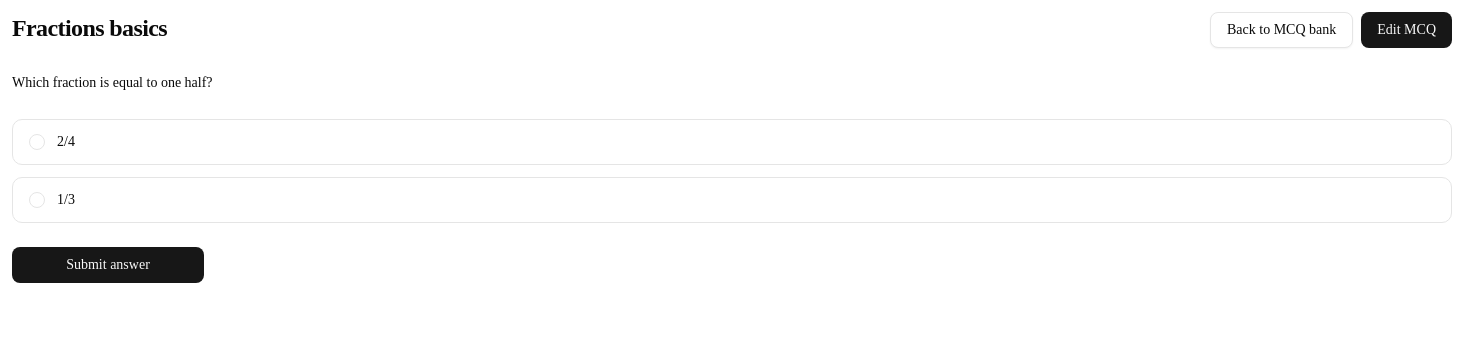
Test: McqPreview › records an attempt and shows Incorrect when the selected answer is wrong
Check: the heading "Fractions basics" is shown, box [12,12,167,44]
Click the radio button named "1/3" next to "1/3": (37, 200) [29,192,45,208]
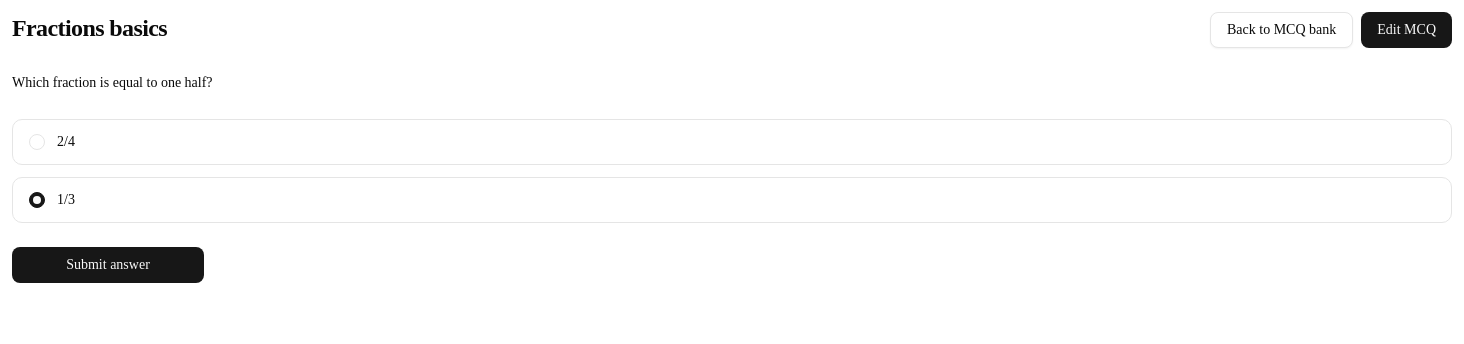
Click the button "Submit answer": (108, 265) [12,247,204,283]
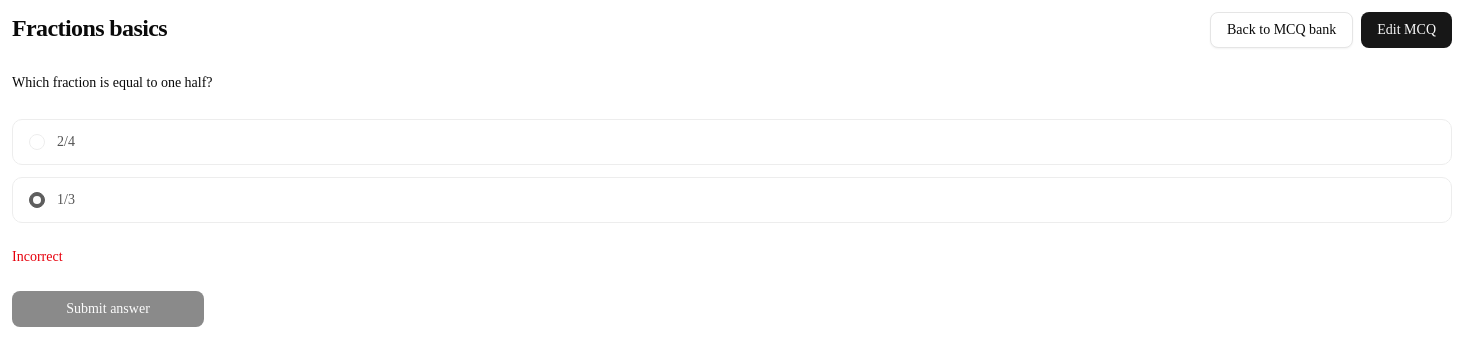
Check: the message reads "Incorrect", box [12,249,62,264]
